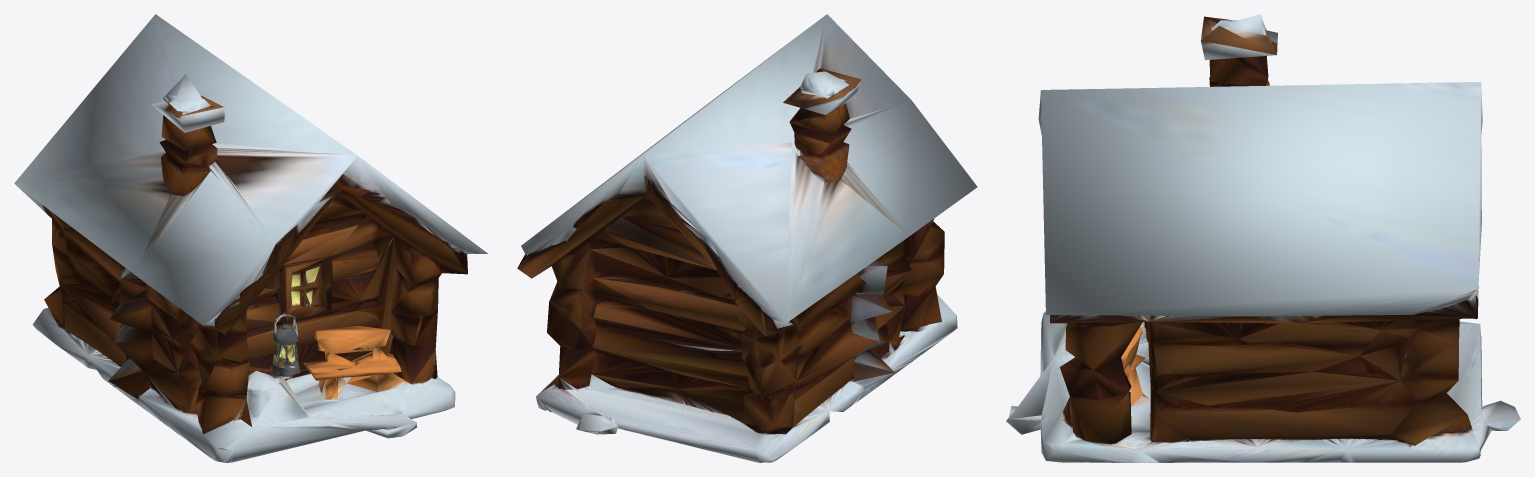
Rendered from hut.glb.
The picture shows the model from 3 angles, left to right: view 1: azimuth 30°, elevation 25°; view 2: azimuth 150°, elevation 25°; view 3: azimuth 270°, elevation 25°; orthographic projection. The views are drawn at different scales.
Visible parts, largest first — view 1: Mesh_0; view 2: Mesh_0; view 3: Mesh_0.
Part boxes in pixels (box(x1,y1,x2,y2)): Mesh_0: box(14, 14, 487, 462); Mesh_0: box(517, 14, 977, 462); Mesh_0: box(1006, 14, 1520, 462).
Size of the model in its own units: 0.9752 by 1 by 1.31.
Materials: 1 (1 with a texture image).
